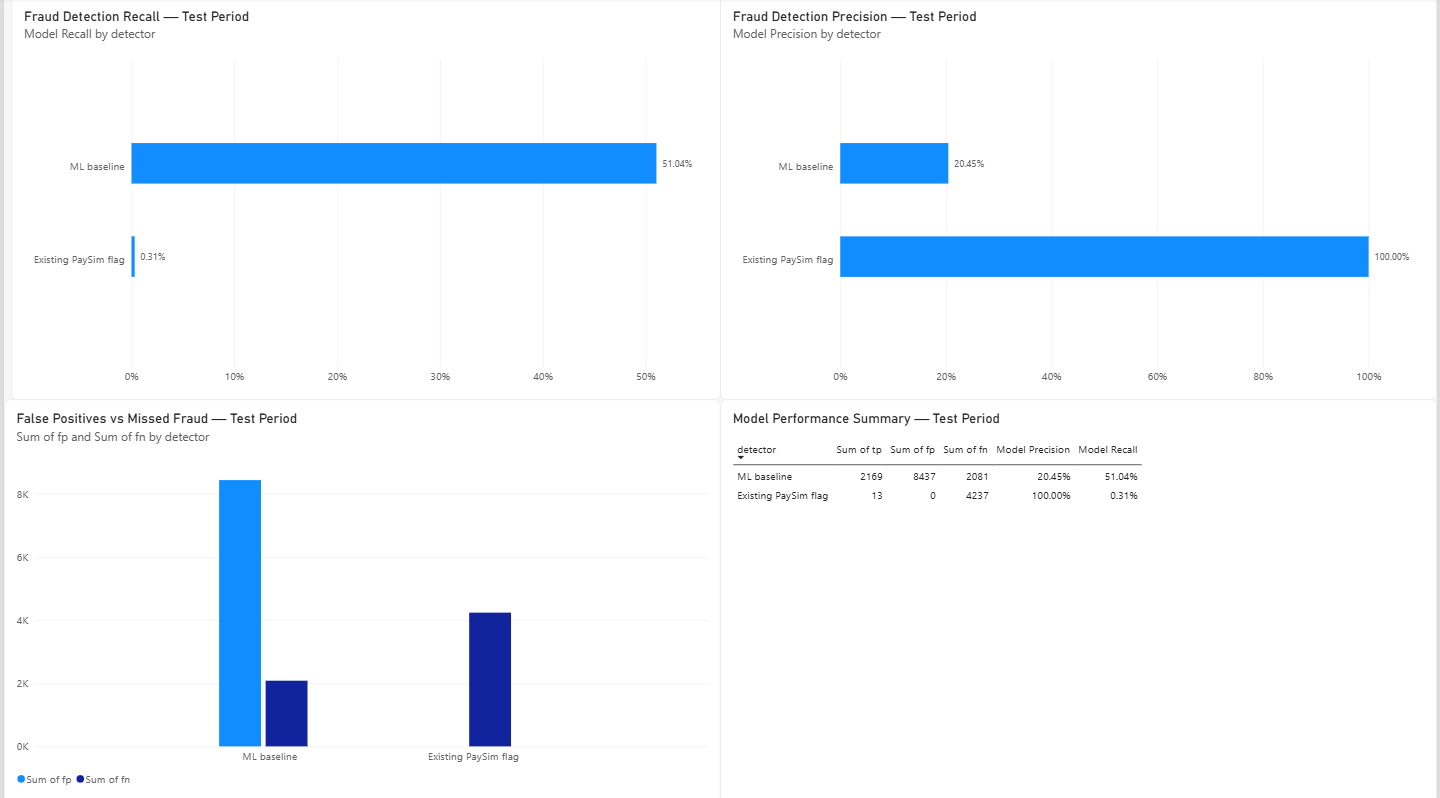

The dashboard page shown, as its layout file describes it:
{"tool":"powerbi","page":{"name":"Fraud Detection Performance","canvas":[1920,1080],"ordinal":2},"visuals":[{"type":"clusteredBarChart","title":"Fraud Detection Recall — Test Period","fields":{"Category":["model_performance.detector"],"Y":["model_performance.Model Recall"]},"box":[10,0,950,540],"z":0},{"type":"clusteredBarChart","title":"Fraud Detection Precision — Test Period","fields":{"Category":["model_performance.detector"],"Y":["model_performance.Model Precision"]},"box":[960,0,960,540],"z":1},{"type":"clusteredColumnChart","title":"False Positives vs Missed Fraud — Test Period","fields":{"Category":["model_performance.detector"],"Y":["Sum(model_performance.fp)","Sum(model_performance.fn)"]},"box":[0,540,960,540],"z":2},{"type":"tableEx","title":"Model Performance Summary — Test Period","fields":{"Values":["model_performance.detector","Sum(model_performance.tp)","Sum(model_performance.fp)","Sum(model_performance.fn)","model_performance.Model Precision","model_performance.Model Recall"]},"box":[960,540,960,540],"z":3}]}

Visuals, with their boxes in screenshot pixels (x1, y1, x2, y2), scaled from the page's 1920x1080 canvas onto the 1440x798 screenshot:
"Fraud Detection Recall — Test Period" clusteredBarChart: bbox=[8, 0, 720, 399]
"Fraud Detection Precision — Test Period" clusteredBarChart: bbox=[720, 0, 1439, 399]
"False Positives vs Missed Fraud — Test Period" clusteredColumnChart: bbox=[0, 399, 720, 797]
"Model Performance Summary — Test Period" tableEx: bbox=[720, 399, 1439, 797]
